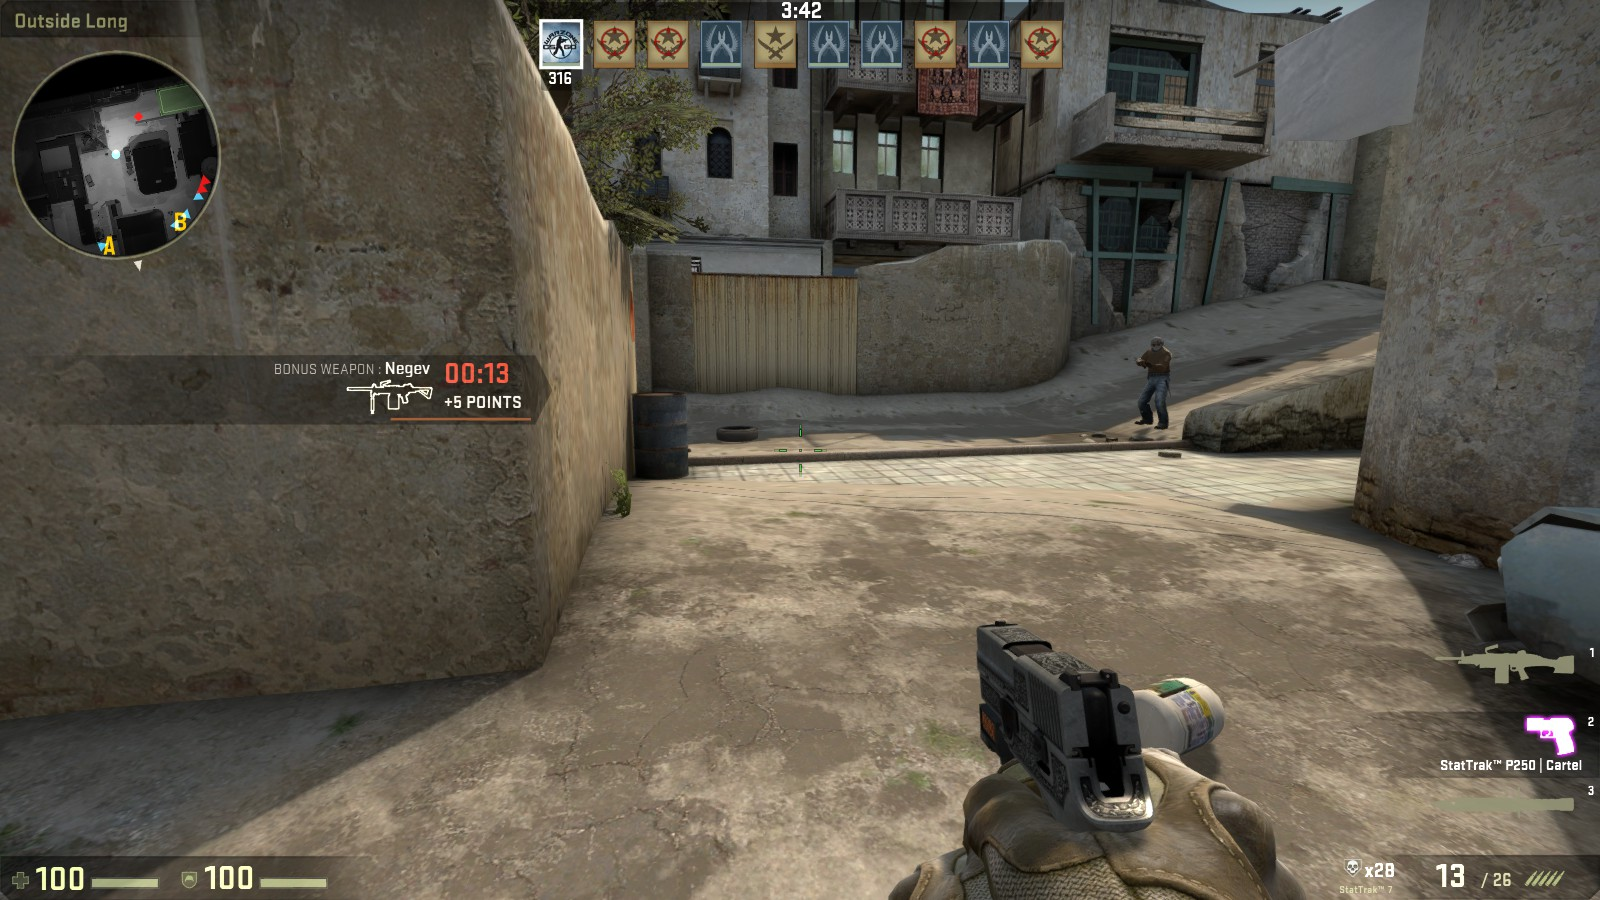t: (1138, 335, 1173, 427)
th: (1149, 335, 1165, 354)
